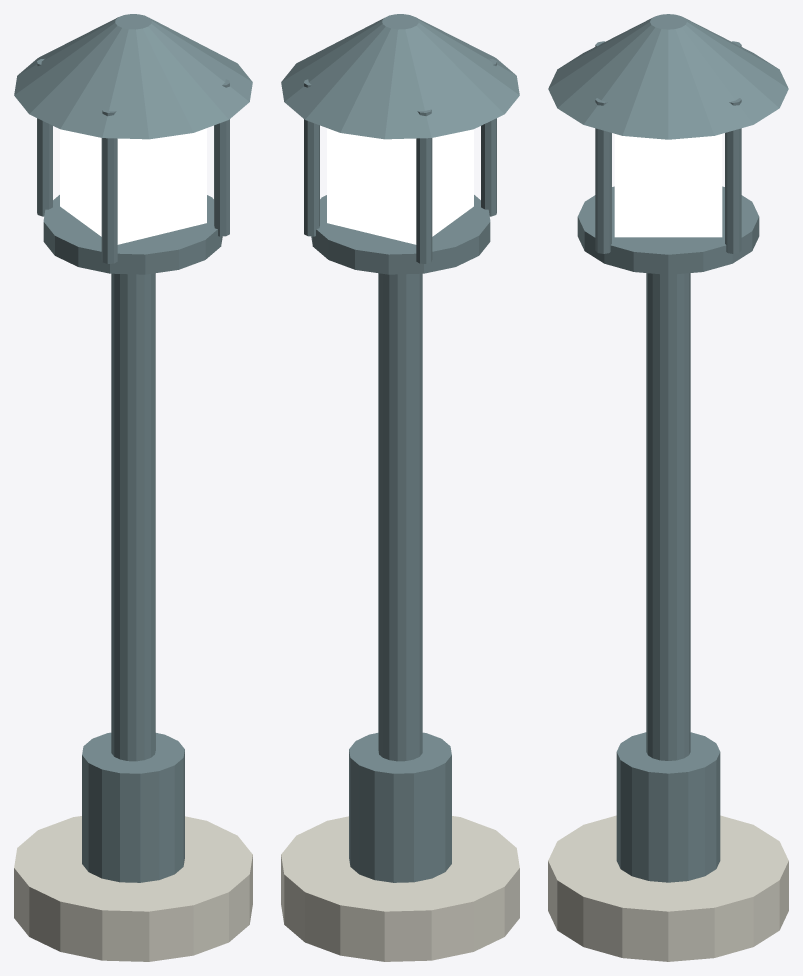
Rendered from remaster_decor_lamp.glb.
3 views of the same model, side by side, from view 1: azimuth 30°, elevation 25°; view 2: azimuth 150°, elevation 25°; view 3: azimuth 270°, elevation 25° (orthographic).
Parts seen in each view (by area): view 1: Stone foot.001, Lantern post.001, Lantern roof.001, Fluted base.001, Lantern glow.001, Lantern rim.001, Lantern frame.004, Lantern frame.006, Lantern frame.005; view 2: Stone foot.001, Lantern post.001, Lantern roof.001, Fluted base.001, Lantern glow.001, Lantern rim.001, Lantern frame.005, Lantern frame.007, Lantern frame.004; view 3: Stone foot.001, Lantern post.001, Lantern roof.001, Fluted base.001, Lantern glow.001, Lantern rim.001, Lantern frame.006, Lantern frame.007.
Boxes of the visible parts, left/top/right/bottom form: Stone foot.001: left=14, top=816, right=252, bottom=961; Lantern post.001: left=111, top=273, right=155, bottom=761; Lantern roof.001: left=14, top=14, right=252, bottom=139; Fluted base.001: left=82, top=732, right=184, bottom=882; Lantern glow.001: left=60, top=128, right=206, bottom=244; Lantern rim.001: left=43, top=195, right=222, bottom=274; Lantern frame.004: left=101, top=109, right=117, bottom=263; Lantern frame.006: left=214, top=79, right=229, bottom=236; Lantern frame.005: left=37, top=59, right=52, bottom=216; Stone foot.001: left=281, top=816, right=519, bottom=961; Lantern post.001: left=378, top=273, right=422, bottom=761; Lantern roof.001: left=281, top=14, right=519, bottom=139; Fluted base.001: left=349, top=732, right=451, bottom=882; Lantern glow.001: left=327, top=128, right=473, bottom=244; Lantern rim.001: left=311, top=195, right=490, bottom=274; Lantern frame.005: left=416, top=109, right=432, bottom=263; Lantern frame.007: left=304, top=79, right=319, bottom=236; Lantern frame.004: left=481, top=59, right=496, bottom=216; Stone foot.001: left=548, top=815, right=788, bottom=961; Lantern post.001: left=646, top=273, right=690, bottom=760; Lantern roof.001: left=548, top=14, right=788, bottom=139; Fluted base.001: left=616, top=732, right=720, bottom=882; Lantern glow.001: left=614, top=134, right=722, bottom=237; Lantern rim.001: left=577, top=186, right=759, bottom=274; Lantern frame.006: left=595, top=98, right=611, bottom=253; Lantern frame.007: left=725, top=98, right=741, bottom=253.
Bounding box in the file's own units: 1.3 × 5.3 × 1.3.
